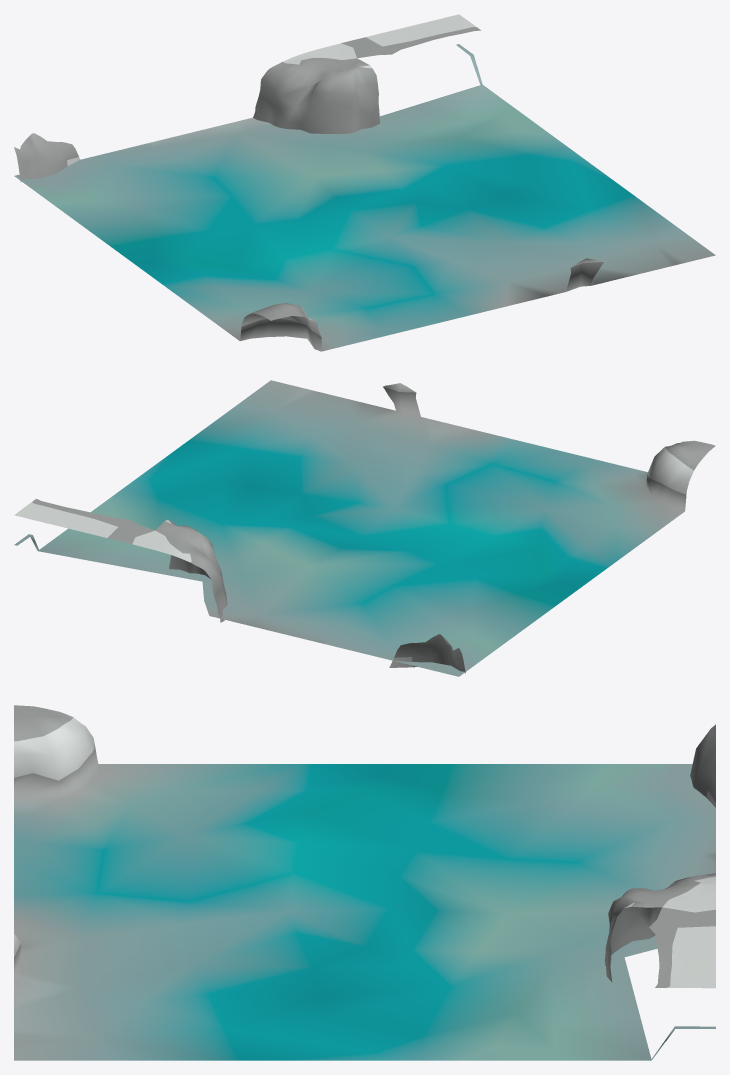
3 views of the same model, one above another, from view 1: azimuth 30°, elevation 25°; view 2: azimuth 150°, elevation 25°; view 3: azimuth 270°, elevation 25° (orthographic). The views are drawn at different scales.
Parts seen in each view (by area): view 1: G:\FFXIV-MapTools\exports\n5f1\bg\ex4\01_nvt_n5\fld\n5f1\bgp (×9); view 2: G:\FFXIV-MapTools\exports\n5f1\bg\ex4\01_nvt_n5\fld\n5f1\bgp (×9); view 3: G:\FFXIV-MapTools\exports\n5f1\bg\ex4\01_nvt_n5\fld\n5f1\bgp (×9).
Part boxes in pixels (<box>): G:\FFXIV-MapTools\exports\n5f1\bg\ex4\01_nvt_n5\fld\n5f1\bgp (×9): <box>14,14,715,351</box>; G:\FFXIV-MapTools\exports\n5f1\bg\ex4\01_nvt_n5\fld\n5f1\bgp (×9): <box>14,380,715,676</box>; G:\FFXIV-MapTools\exports\n5f1\bg\ex4\01_nvt_n5\fld\n5f1\bgp (×9): <box>14,705,715,1060</box>.
Size of the model in its own units: 128 by 17.14 by 128.
